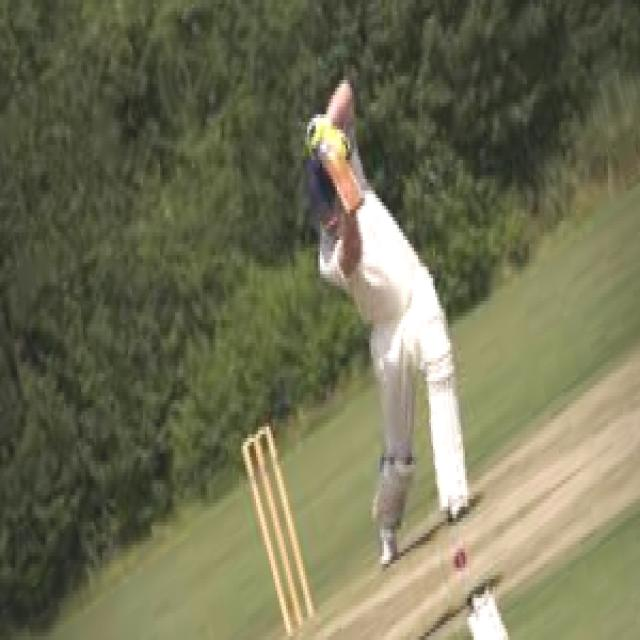bat: (315, 142, 366, 220)
